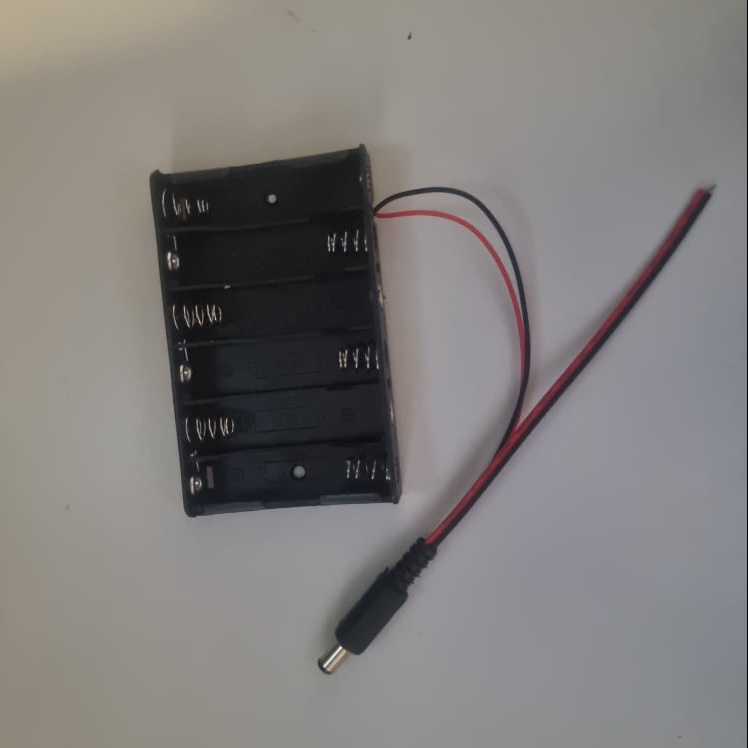BATTERY BOX: (149, 137, 406, 519)
